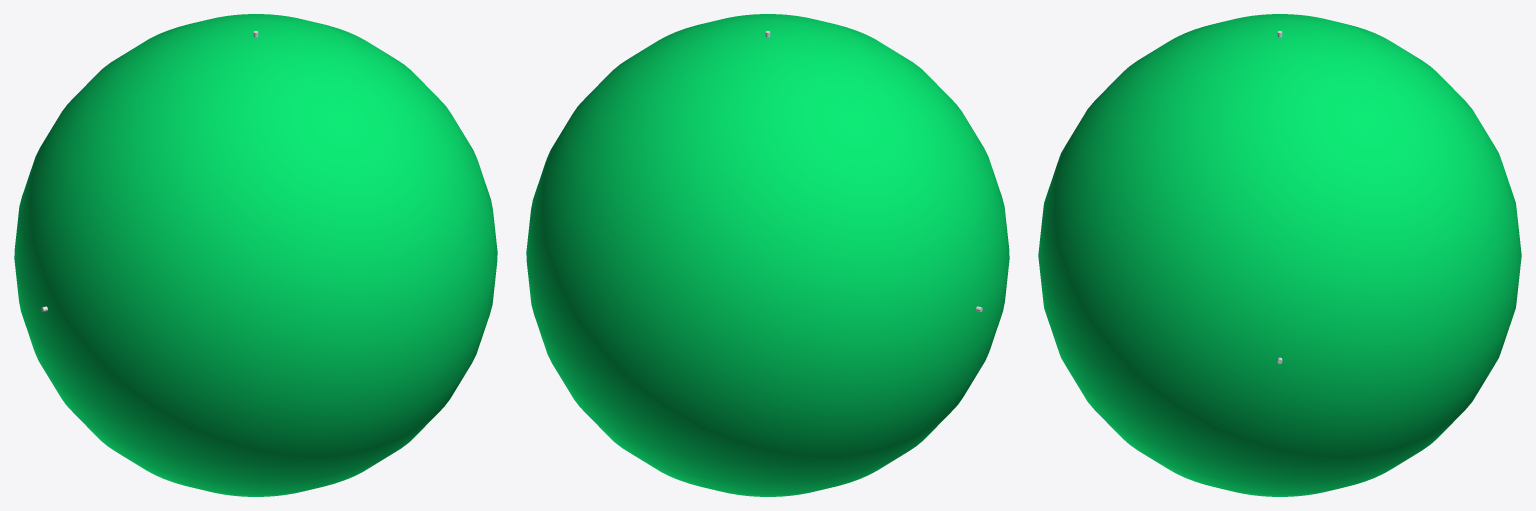
The picture shows the model from 3 angles, left to right: view 1: azimuth 30°, elevation 25°; view 2: azimuth 150°, elevation 25°; view 3: azimuth 270°, elevation 25°; orthographic projection.
Visible parts, largest first — view 1: Sphere.001; view 2: Sphere.001; view 3: Sphere.001.
Part boxes in pixels (left/top/right/bottom): Sphere.001: left=14, top=14, right=497, bottom=496; Sphere.001: left=526, top=14, right=1009, bottom=496; Sphere.001: left=1038, top=14, right=1521, bottom=496.
Bounding box in the file's own units: 2.04 × 2.02 × 2.
